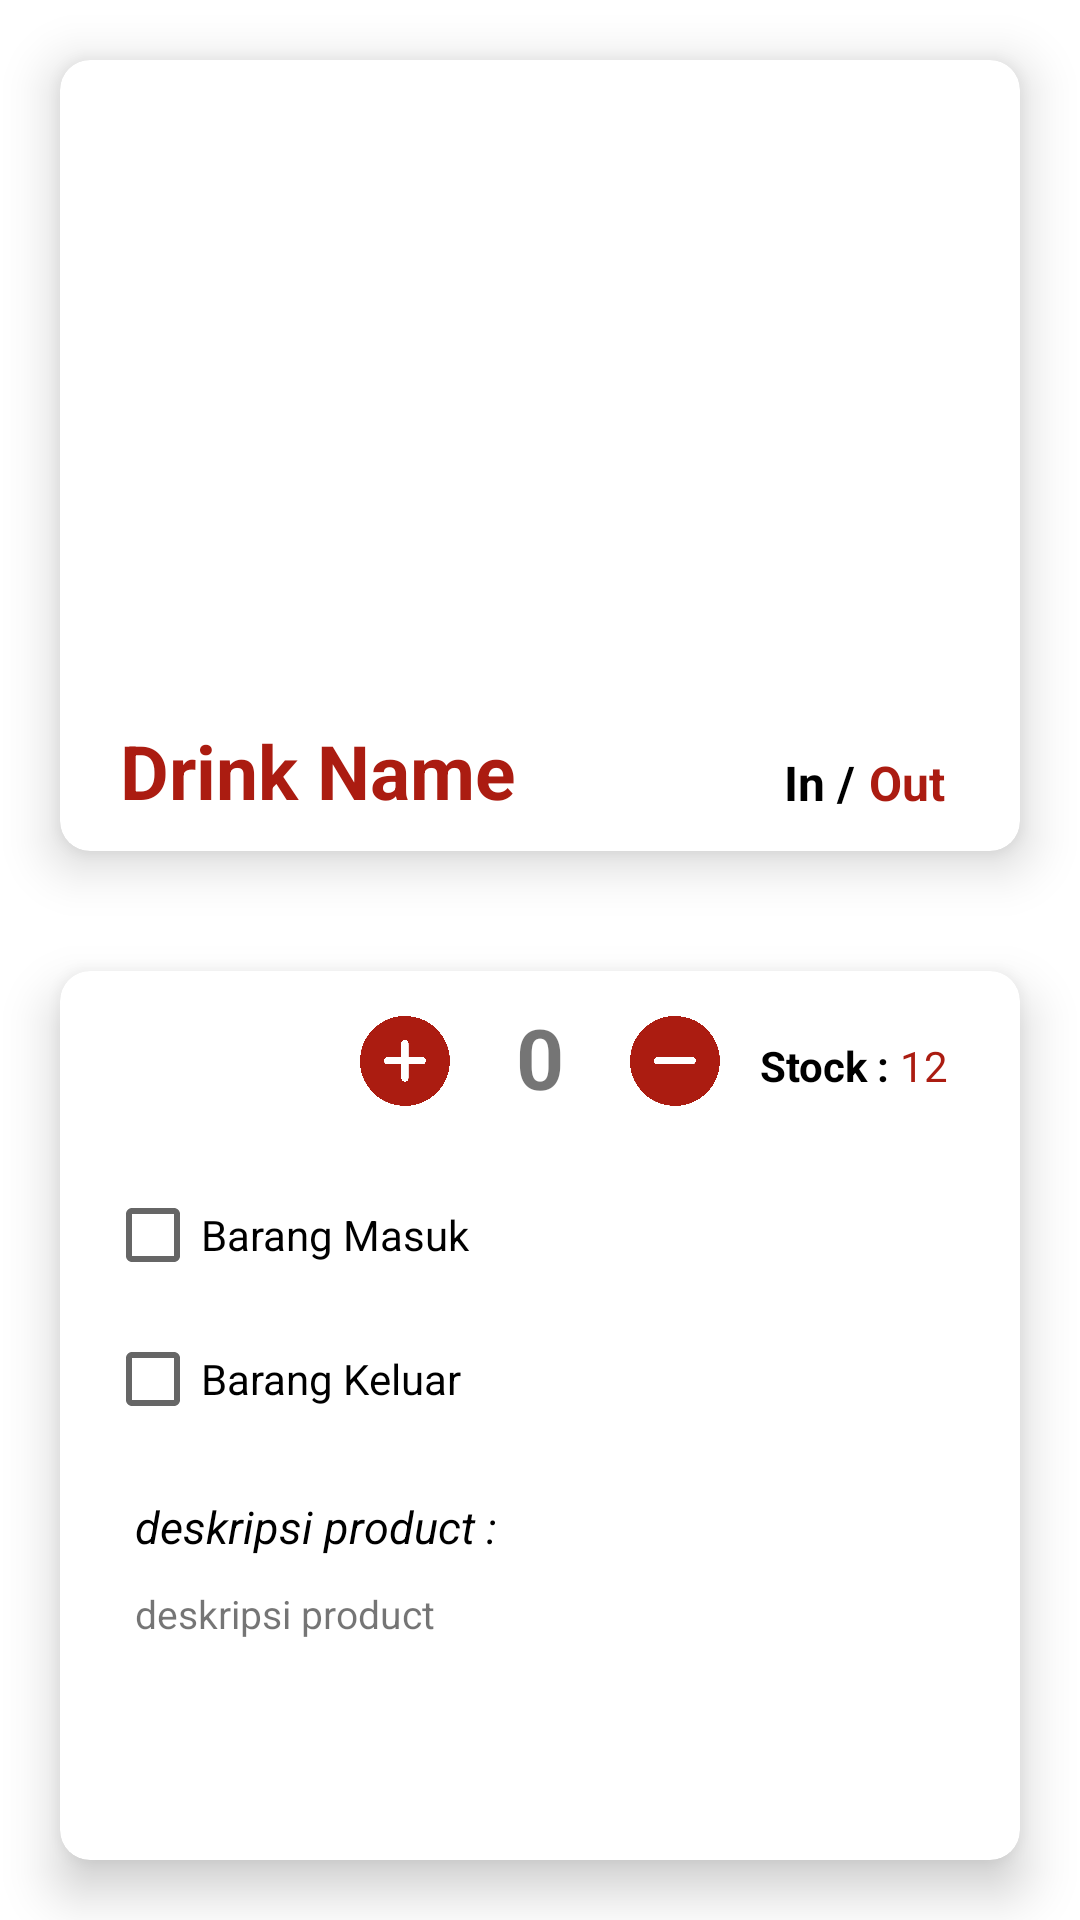

Where to tap for icons on this 1080px×1920px app screen, as (x,y):
minus: (675,1061)
plus: (405,1061)
